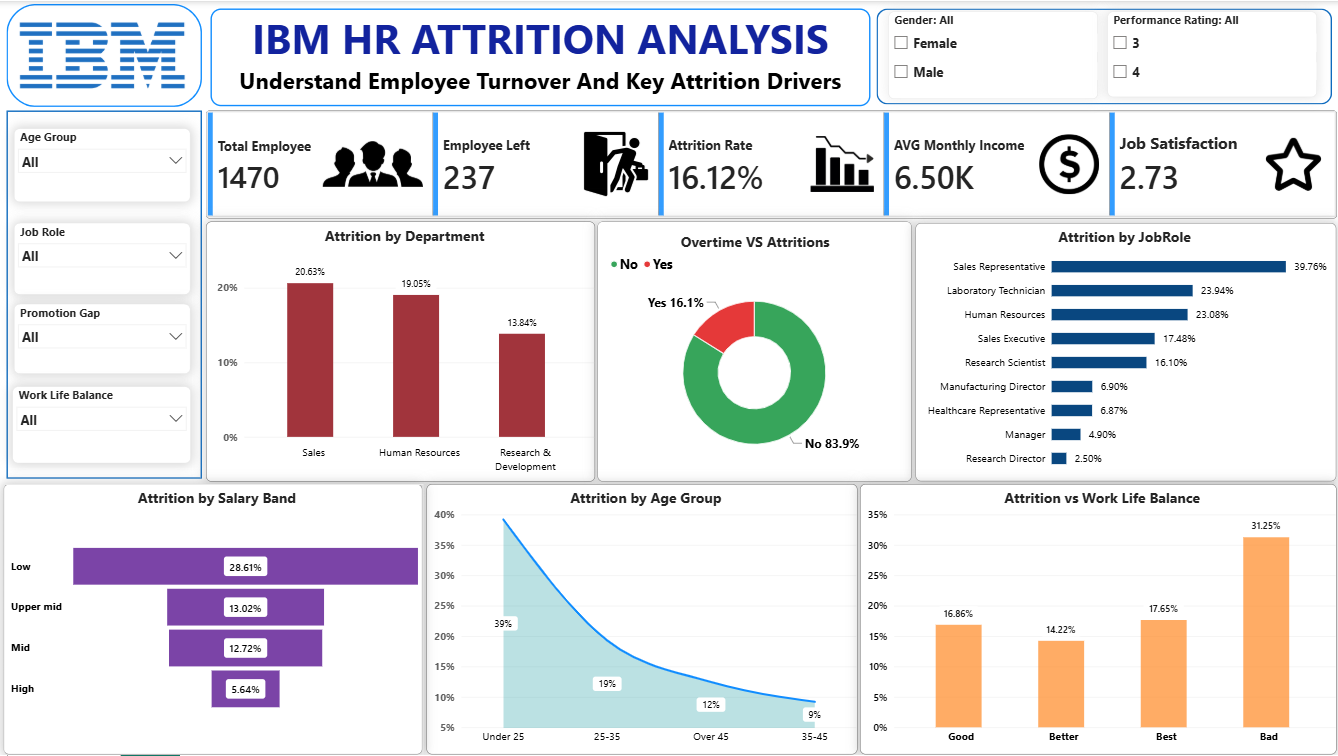

What the dashboard file says about the page in this screenshot:
{"tool":"powerbi","page":{"name":"Page 1","canvas":[1920,1080],"ordinal":0},"visuals":[{"type":"shape","box":[10,5,280,147.5],"z":0},{"type":"image","box":[22.5,5,252.5,147.5],"z":1000},{"type":"shape","box":[10,157.5,280,527.5],"z":2000},{"type":"textbox","box":[302.5,10,945,140],"z":3000},{"type":"cardVisual","fields":{"Data":["IBM ATTRITION ANALYSIS.Total Employee","IBM ATTRITION ANALYSIS.Employee Left","IBM ATTRITION ANALYSIS.Attrition Left","IBM ATTRITION ANALYSIS.AVG Monthly Income","IBM ATTRITION ANALYSIS.Job Satisfaction"]},"box":[296,156.9,1620,154.4],"z":4000},{"type":"clusteredColumnChart","title":"Attrition by Department","fields":{"Category":["IBM ATTRITION ANALYSIS.Department"],"Y":["IBM ATTRITION ANALYSIS.attrition rate"]},"box":[297.5,315,557.5,372.5],"z":5000},{"type":"donutChart","title":"Overtime VS Attritions","fields":{"Y":["CountNonNull(IBM ATTRITION ANALYSIS.OverTime)"],"Category":["IBM ATTRITION ANALYSIS.Attrition"]},"box":[857.5,315,450,372.5],"z":6000},{"type":"clusteredBarChart","title":" Attrition by JobRole","fields":{"Category":["IBM ATTRITION ANALYSIS.JobRole"],"Y":["IBM ATTRITION ANALYSIS.attrition rate"]},"box":[1312.5,317.5,602.5,370],"z":7000},{"type":"stackedAreaChart","title":"Attrition by Age Group","fields":{"Category":["IBM ATTRITION ANALYSIS.Age Group"],"Y":["IBM ATTRITION ANALYSIS.attrition rate"]},"box":[612.5,692.5,617,387.5],"z":8000},{"type":"funnel","title":" Attrition by Salary Band","fields":{"Category":["IBM ATTRITION ANALYSIS.Salary Band"],"Y":["IBM ATTRITION ANALYSIS.attrition rate"]},"box":[8.6,691.1,601.6,388.9],"z":9000},{"type":"clusteredColumnChart","title":"Attrition vs Work Life Balance","fields":{"Category":["IBM ATTRITION ANALYSIS.Work Life Balance Label"],"Y":["IBM ATTRITION ANALYSIS.attrition rate"]},"box":[1232.5,692.5,682.5,387.5],"z":10000},{"type":"slicer","fields":{"Values":["IBM ATTRITION ANALYSIS.JobRole"]},"box":[22.5,317.5,252.5,102.5],"z":11000},{"type":"slicer","fields":{"Values":["IBM ATTRITION ANALYSIS.Promotion Gap"]},"box":[22.5,435,252.5,100],"z":12000},{"type":"slicer","fields":{"Values":["IBM ATTRITION ANALYSIS.Work Life Balance Label"]},"box":[20,552.5,255,110],"z":13000},{"type":"slicer","fields":{"Values":["IBM ATTRITION ANALYSIS.Age Group"]},"box":[22.5,182.5,252.5,105],"z":14000},{"type":"shape","box":[1257.5,10,652.5,137.5],"z":15000},{"type":"slicer","fields":{"Values":["IBM ATTRITION ANALYSIS.Gender"]},"box":[1275,15,300,125],"z":16000},{"type":"slicer","fields":{"Values":["IBM ATTRITION ANALYSIS.PerformanceRating"]},"box":[1587.5,15,300,122.5],"z":17000}]}

Visuals, with their boxes in screenshot pixels (x1, y1, x2, y2), scaled from the page's 1920x1080 canvas onto the 1338x756 screenshot:
shape: [7,4,202,107]
image: [16,4,192,107]
shape: [7,110,202,479]
textbox: [211,7,869,105]
cardVisual - IBM ATTRITION ANALYSIS.Total Employee x IBM ATTRITION ANALYSIS.Employee Left: [206,110,1335,218]
"Attrition by Department" clusteredColumnChart: [207,220,596,481]
"Overtime VS Attritions" donutChart: [598,220,911,481]
" Attrition by JobRole" clusteredBarChart: [915,222,1335,481]
"Attrition by Age Group" stackedAreaChart: [427,485,857,755]
" Attrition by Salary Band" funnel: [6,484,425,755]
"Attrition vs Work Life Balance" clusteredColumnChart: [859,485,1335,755]
slicer - IBM ATTRITION ANALYSIS.JobRole: [16,222,192,294]
slicer - IBM ATTRITION ANALYSIS.Promotion Gap: [16,304,192,374]
slicer - IBM ATTRITION ANALYSIS.Work Life Balance Label: [14,387,192,464]
slicer - IBM ATTRITION ANALYSIS.Age Group: [16,128,192,201]
shape: [876,7,1331,103]
slicer - IBM ATTRITION ANALYSIS.Gender: [889,10,1098,98]
slicer - IBM ATTRITION ANALYSIS.PerformanceRating: [1106,10,1315,96]
